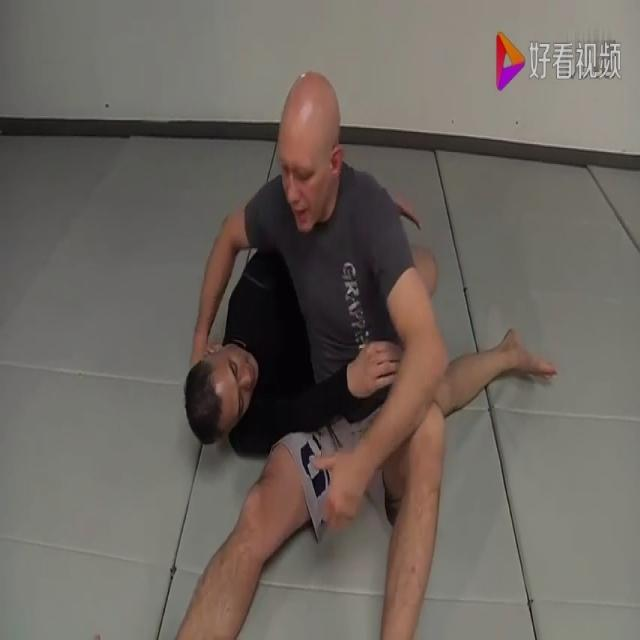fight: (168, 68, 558, 640)
